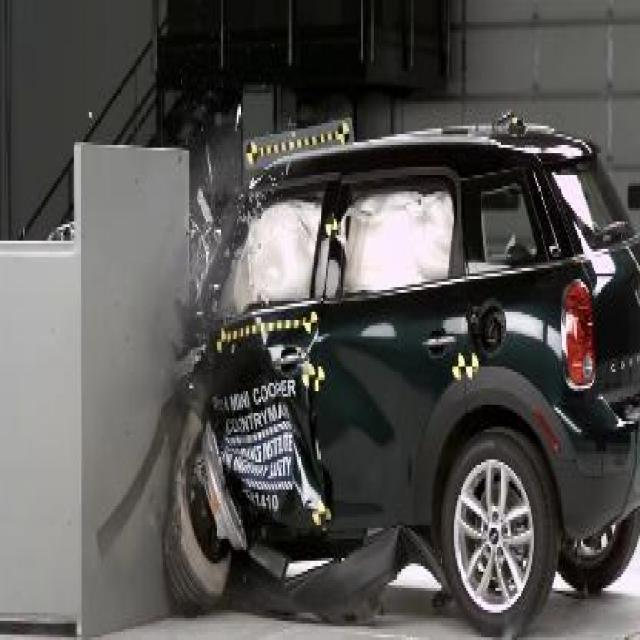accident: (17, 101, 638, 637)
